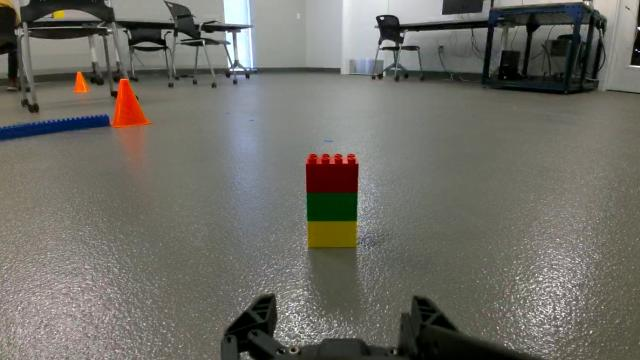lego: (284, 128, 387, 264)
